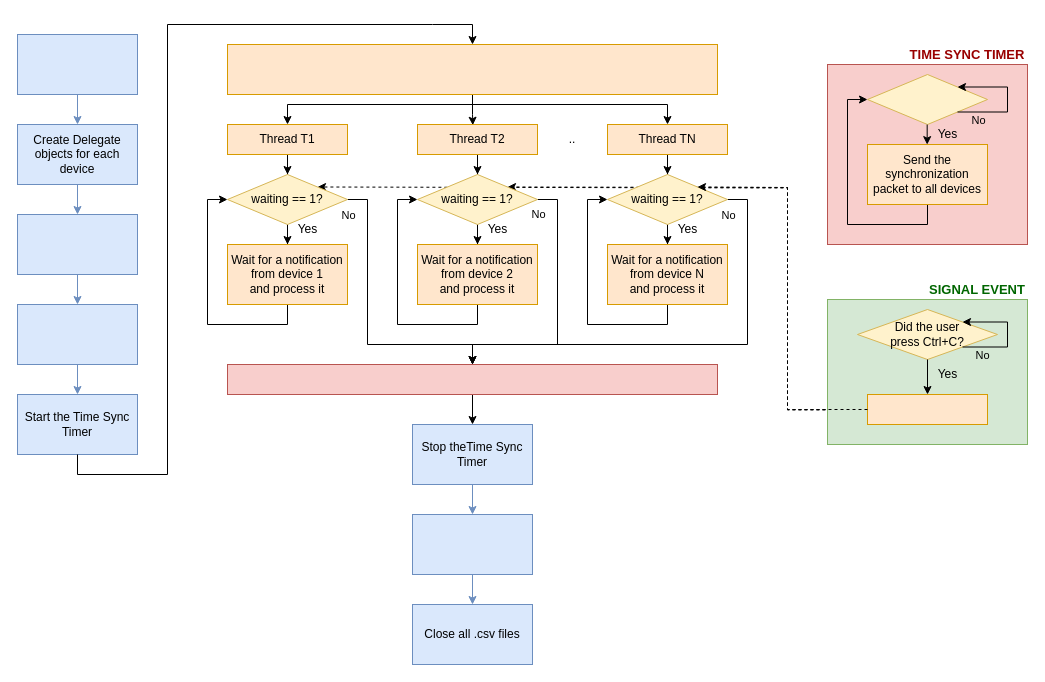
This 1045x682 diagram has some shape labels left out. Each missing label, with the box of its shape:
Connect to devices via BLE: (16, 34, 138, 94)
Create N threads N = number of devices connected: (226, 44, 718, 94)
Create output .csv files and relative headers: (16, 214, 138, 274)
Did 1s pass?: (866, 74, 988, 124)
Disconnect all devices: (412, 514, 532, 574)
Subscribe to notifications for each device: (16, 304, 138, 364)
Wait threads to terminate: (226, 364, 718, 394)
waiting = 0: (866, 394, 988, 424)
